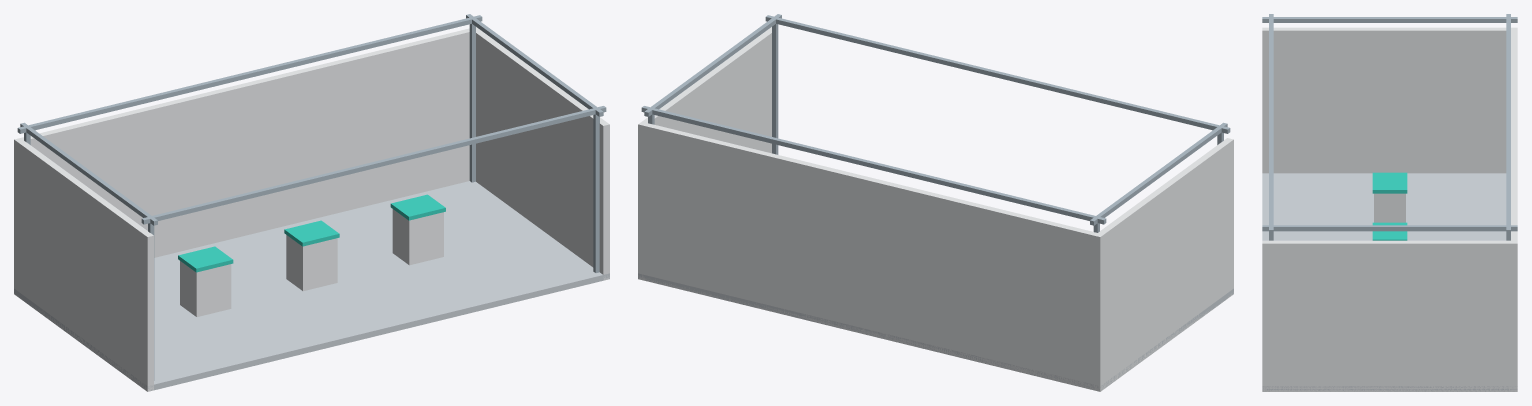
3 renders of one model, left to right at view 1: azimuth 30°, elevation 25°; view 2: azimuth 150°, elevation 25°; view 3: azimuth 270°, elevation 25°, orthographic. The views are drawn at different scales.
Visible parts, largest first — view 1: Exhibition Booth Concept; view 2: Exhibition Booth Concept; view 3: Exhibition Booth Concept.
Boxes of the visible parts, x1,y1,x2,y2 form: Exhibition Booth Concept: [14, 14, 609, 391]; Exhibition Booth Concept: [638, 14, 1233, 391]; Exhibition Booth Concept: [1262, 14, 1517, 391].
Size of the model in its own units: 10 by 3.49 by 5.
